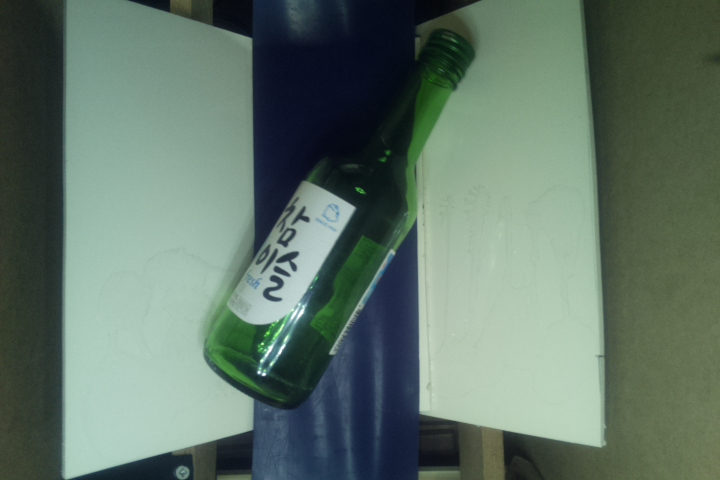soju: (205, 27, 476, 410)
